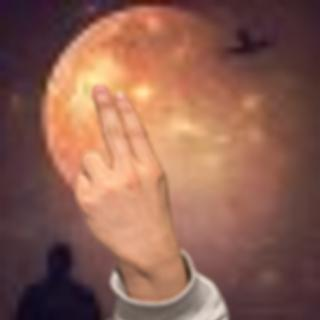DHAVE: (64, 80, 181, 270)
